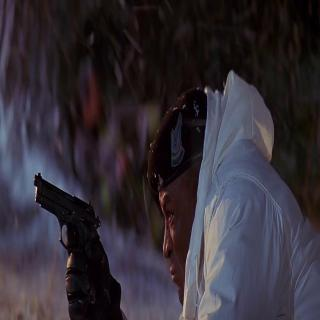gun: (31, 169, 110, 315)
